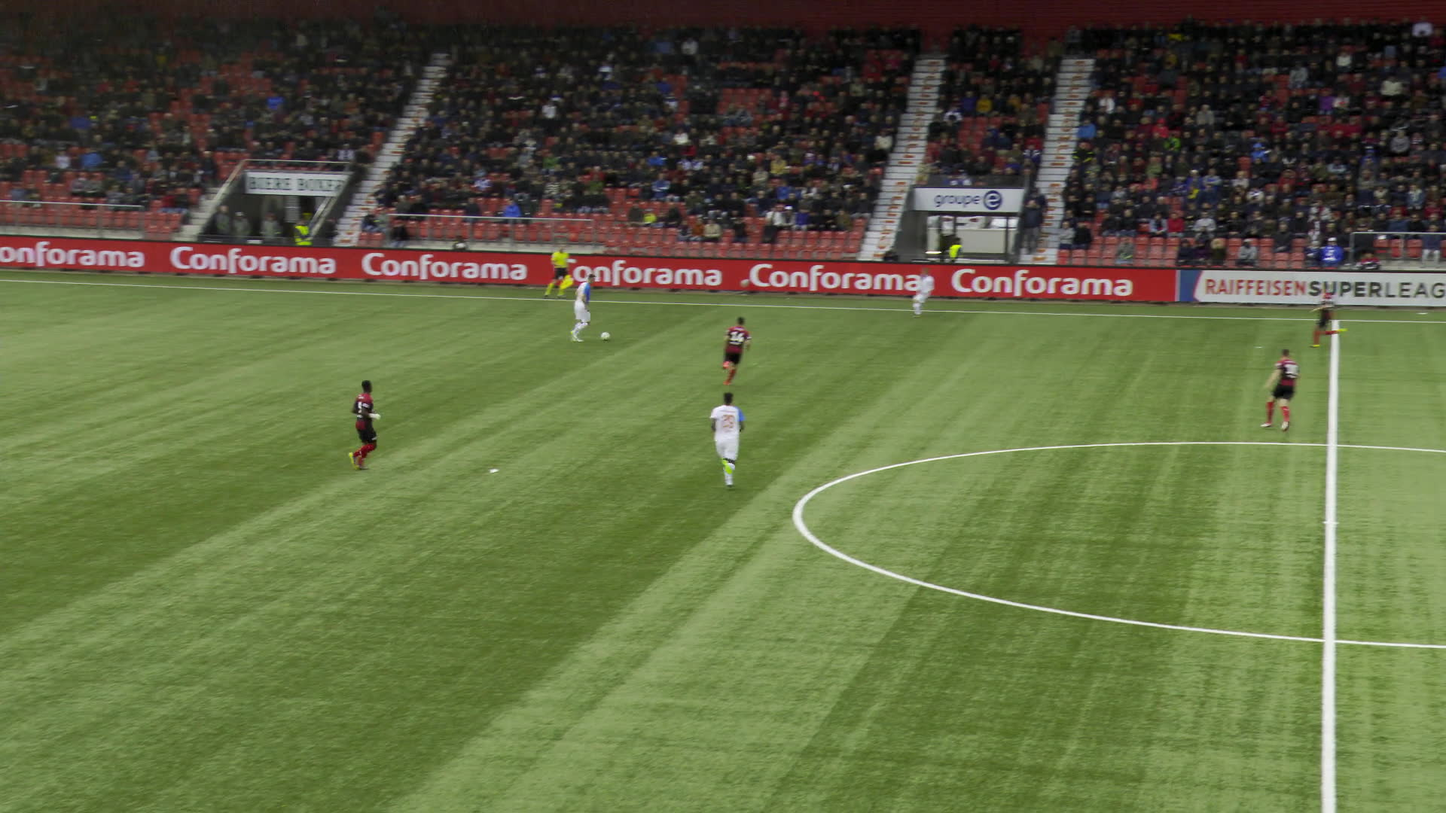ball: (600, 331, 609, 339)
player: (709, 391, 744, 490), (1260, 349, 1300, 431), (348, 380, 381, 470), (1309, 284, 1346, 347), (721, 316, 751, 385), (569, 273, 596, 342), (911, 266, 935, 318)
referee: (544, 244, 573, 299)
